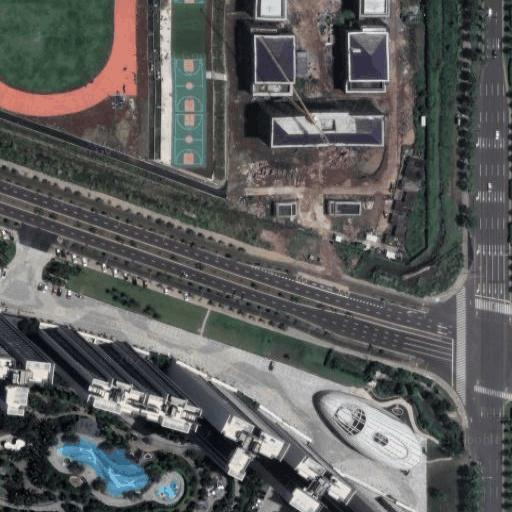building: (315, 391, 418, 469), (40, 325, 150, 382), (165, 357, 234, 425), (243, 407, 312, 474), (253, 99, 365, 132), (334, 25, 375, 90), (235, 21, 274, 86), (327, 478, 377, 512), (326, 197, 361, 217), (272, 198, 298, 218), (4, 438, 26, 451), (245, 0, 274, 5)
